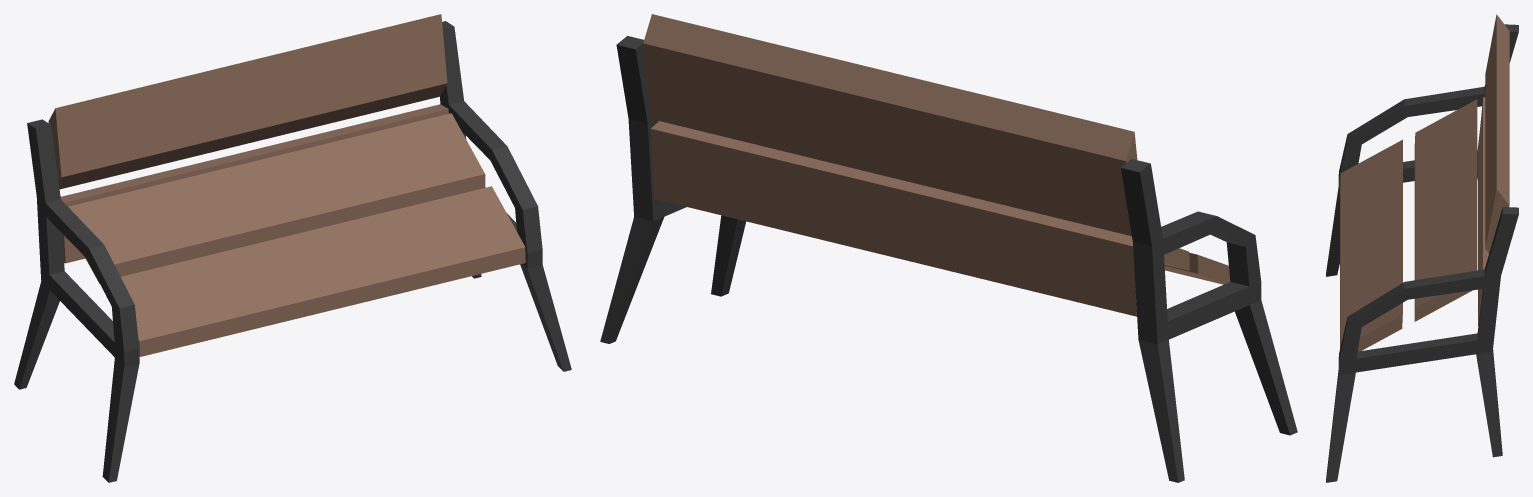
Rendered from Breach.fbx.
3 views of the same model, side by side, from view 1: azimuth 30°, elevation 25°; view 2: azimuth 150°, elevation 25°; view 3: azimuth 270°, elevation 25° (orthographic). The views are drawn at different scales.
Parts seen in each view (by area): view 1: Cube.004, Cube.006, Cube.007, Cube.005; view 2: Cube.006, Cube.005, Cube.007, Cube.004; view 3: Cube.004, Cube.007, Cube.006, Cube.005.
Boxes of the visible parts, box(x1,y1,x2,y2) form: Cube.004: box(68, 113, 525, 356); Cube.006: box(48, 14, 447, 189); Cube.007: box(14, 21, 571, 482); Cube.005: box(60, 104, 448, 263); Cube.006: box(643, 14, 1137, 236); Cube.005: box(650, 121, 1136, 316); Cube.007: box(600, 36, 1297, 482); Cube.004: box(1164, 248, 1230, 284); Cube.004: box(1340, 99, 1477, 351); Cube.007: box(1326, 24, 1518, 482); Cube.006: box(1485, 14, 1509, 253); Cube.005: box(1478, 97, 1488, 325).
Size of the model in its own units: 138 by 84.84 by 53.61.
